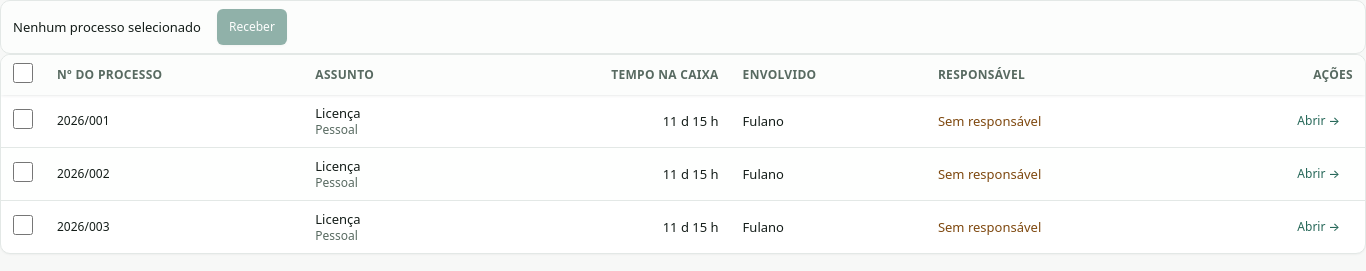
ações em lote › marcar um a um ou a página inteira conta na barra
Expected: the text "Nenhum processo selecionado" is shown, 13,18 -> 201,36
Expected: the button "Receber" is disabled, 217,9 -> 287,45
Click the checkbox named "Selecionar 2026/002" at (23,172), box 13,162 -> 33,182
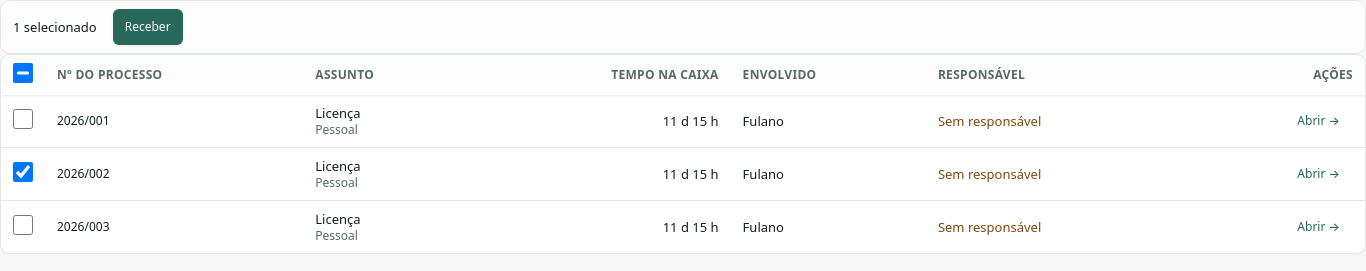
Result: the text "1 selecionado" is shown at 13,18 -> 97,36
Click the checkbox named "Marcar todos desta página" at (23,73), box 13,63 -> 33,83
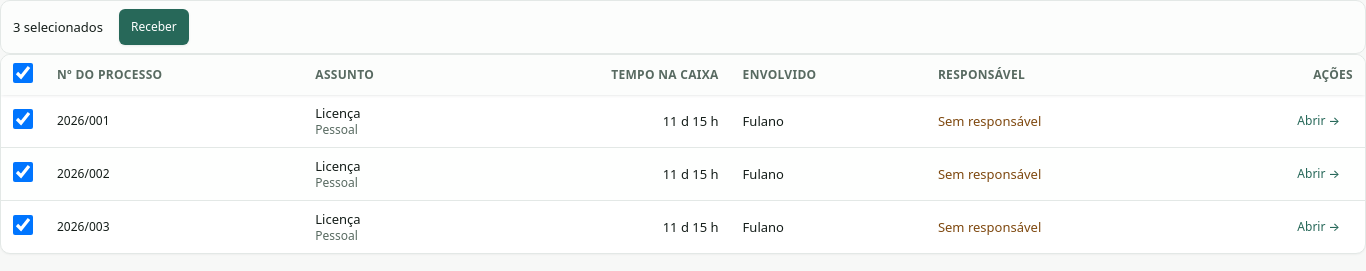
Result: the text "3 selecionados" is shown at 13,18 -> 103,36
Click the checkbox named "Desmarcar todos desta página" at (23,73), box 13,63 -> 33,83
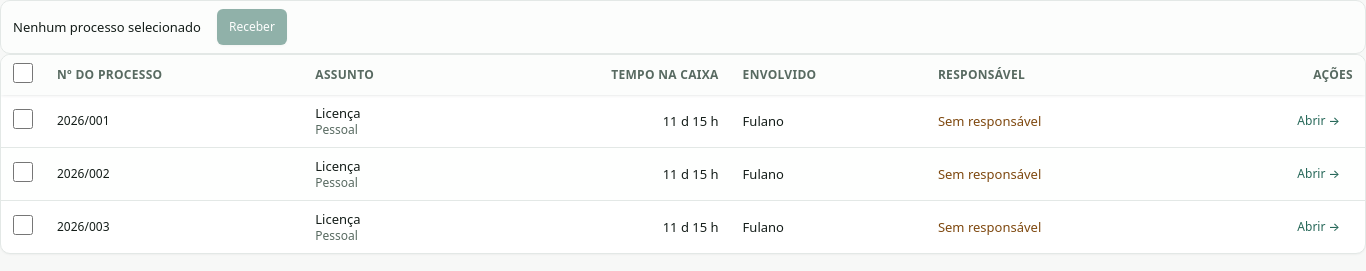
Result: the text "Nenhum processo selecionado" is shown at 13,18 -> 201,36
